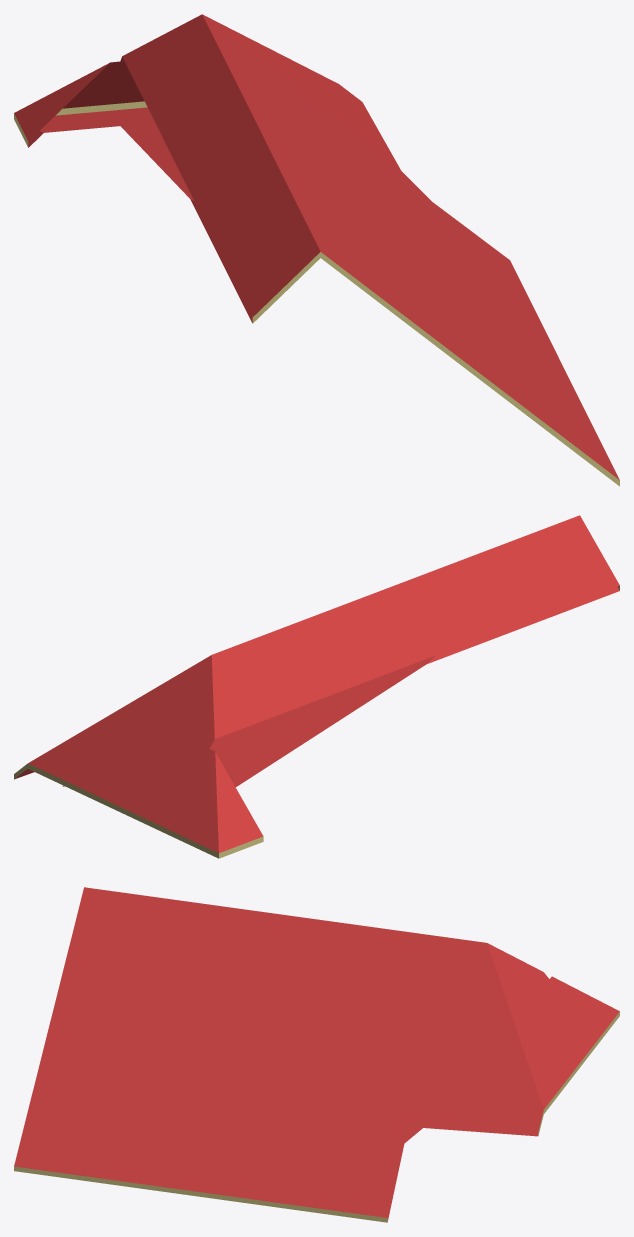
3 renders of one model, top to bottom at view 1: azimuth 30°, elevation 25°; view 2: azimuth 150°, elevation 25°; view 3: azimuth 270°, elevation 25°, orthographic. The views are drawn at different scales.
Size of the model in its own units: 7.5 by 11.79 by 4.15.
